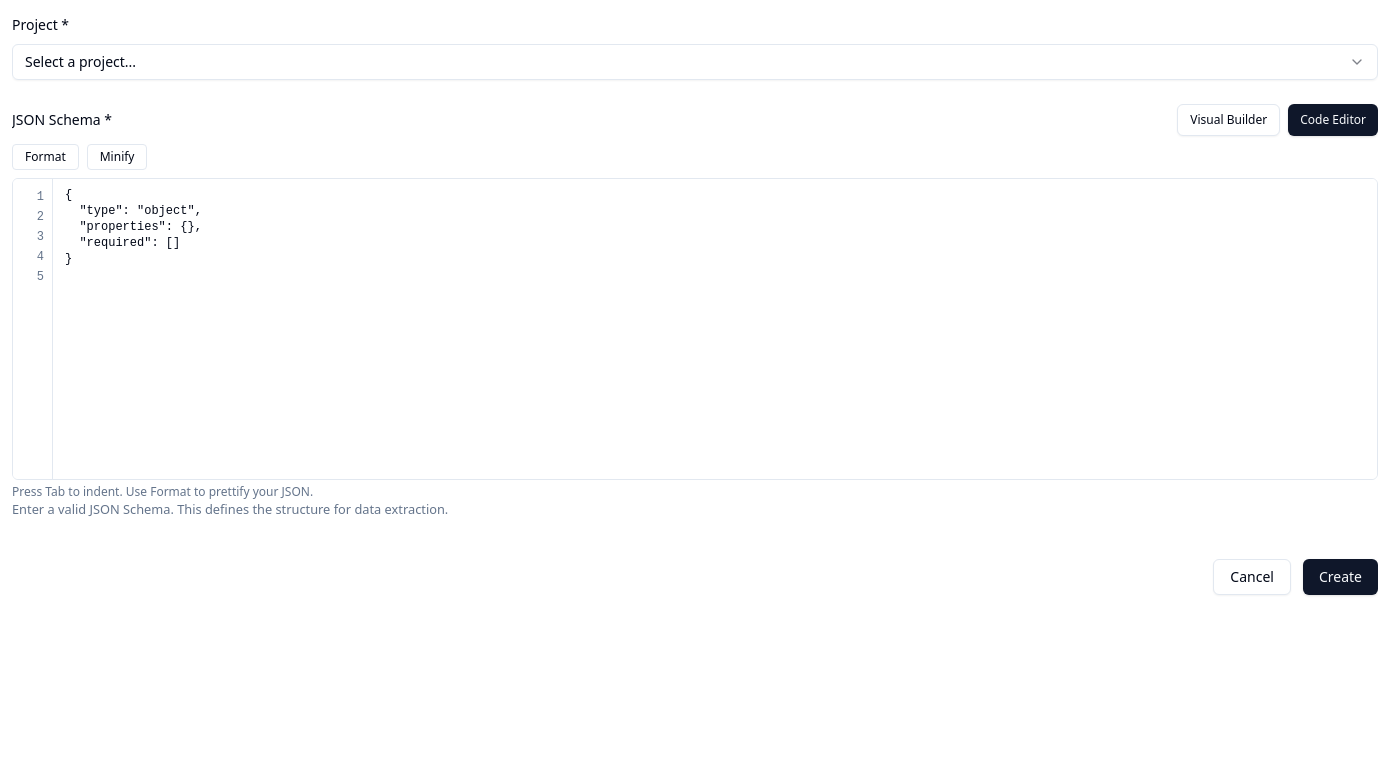
Scenario: SchemaForm › Editor mode toggle › should switch to visual builder mode
The width and height of the screenshot is (1390, 780).
Click the button "Visual Builder": (1229, 120) [1177,104,1280,136]
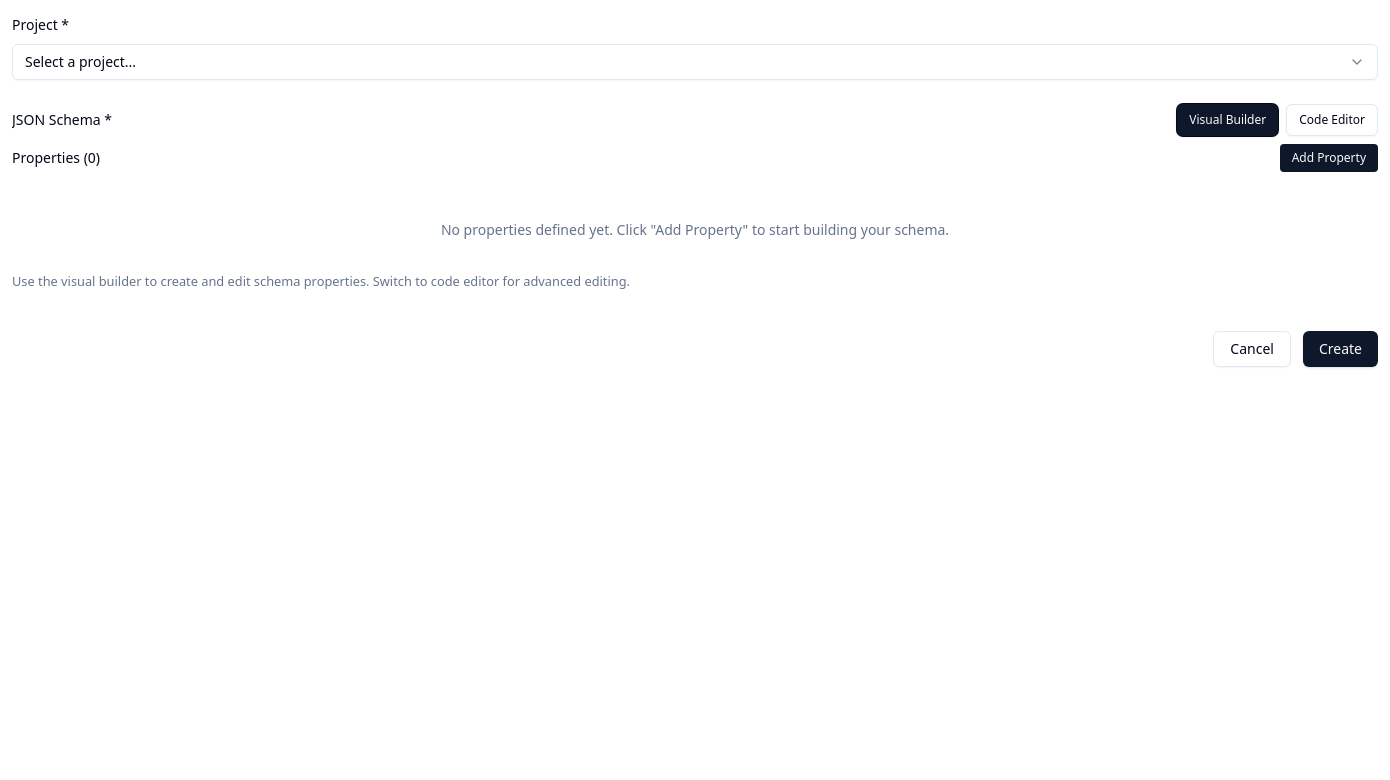
Expected: the heading "Properties (0)" is shown, [12,148,100,168]
Expected: the button "Add Property" is shown, [1280,144,1378,172]
